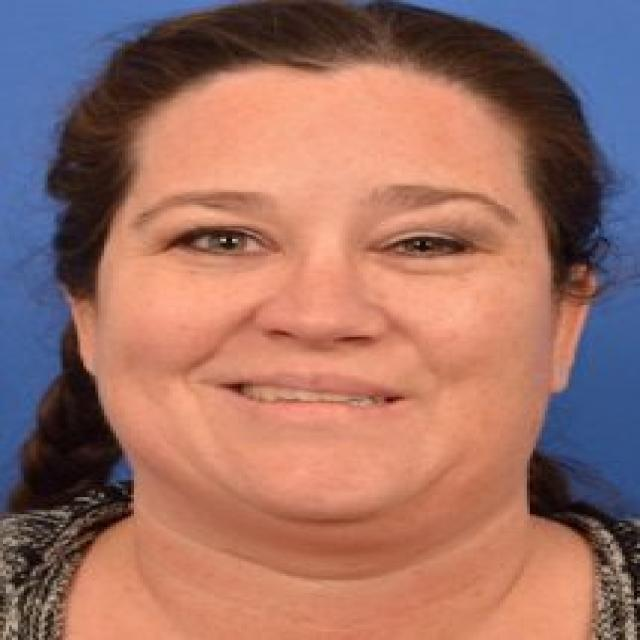stroke_face: (80, 4, 596, 534)
